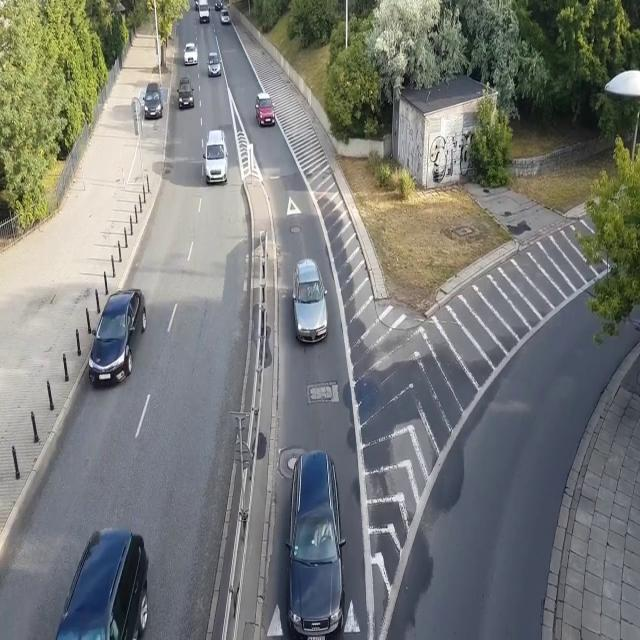car: (285, 450, 346, 640), (53, 527, 150, 640), (86, 287, 147, 390), (290, 259, 328, 343), (202, 128, 228, 184), (142, 82, 164, 119), (255, 93, 276, 128), (177, 76, 194, 110), (206, 52, 222, 78), (183, 42, 198, 66), (220, 9, 231, 26), (213, 0, 223, 11)
van: (198, 0, 210, 24)
